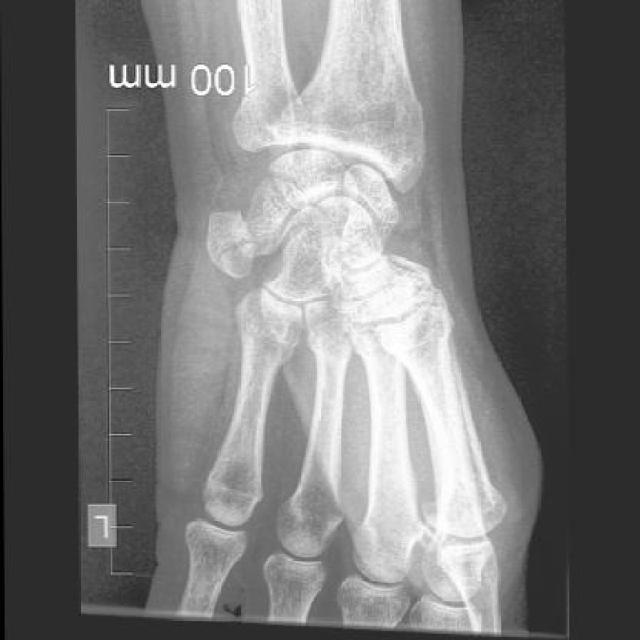Fracture: (214, 237, 258, 271)
